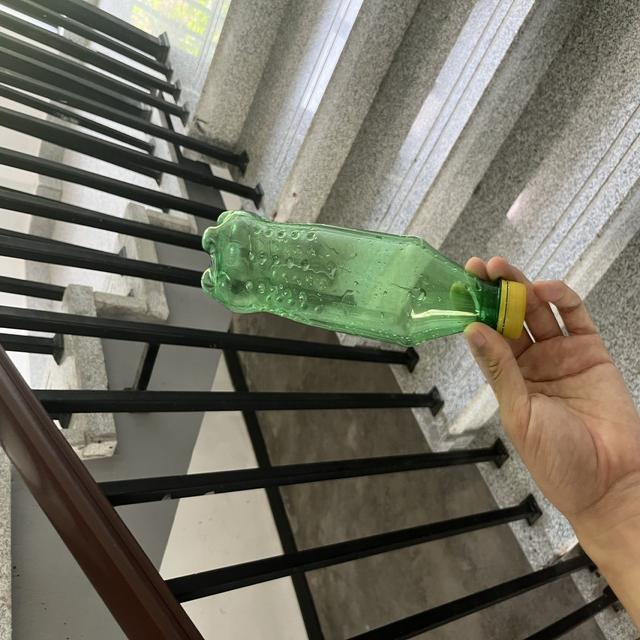empty: (203, 211, 525, 346)
